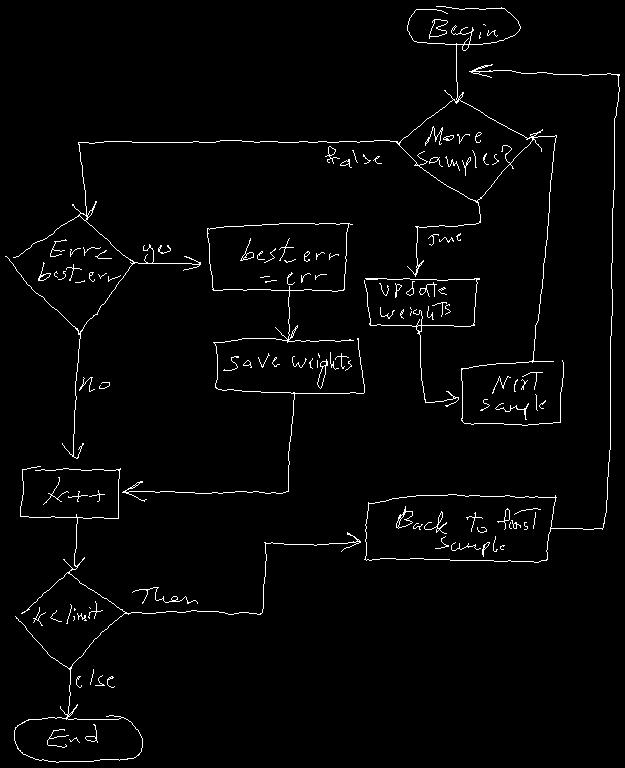arrow: (469, 64, 619, 529), (72, 140, 397, 219), (124, 532, 360, 614), (122, 392, 294, 501), (527, 129, 556, 362), (407, 200, 480, 276), (417, 331, 458, 406), (62, 330, 83, 458), (275, 286, 297, 342), (63, 514, 84, 569), (444, 43, 463, 103), (130, 256, 200, 270), (60, 668, 77, 719)
decision: (5, 213, 134, 334), (396, 99, 533, 202), (15, 569, 126, 669)
process: (364, 494, 556, 562), (207, 223, 352, 291), (213, 338, 364, 393), (461, 360, 563, 425), (364, 278, 479, 326), (20, 466, 120, 518)
terminator: (14, 715, 142, 762), (407, 6, 520, 44)
text: (396, 506, 540, 556), (414, 126, 513, 175), (223, 352, 351, 388), (240, 238, 338, 284), (379, 281, 450, 331), (38, 239, 120, 282), (480, 372, 545, 419), (429, 19, 497, 50), (33, 601, 102, 625), (43, 477, 104, 504), (325, 146, 381, 167), (47, 724, 97, 747), (132, 587, 197, 603), (76, 669, 114, 687), (143, 244, 170, 263), (79, 377, 109, 391), (428, 233, 460, 245)
